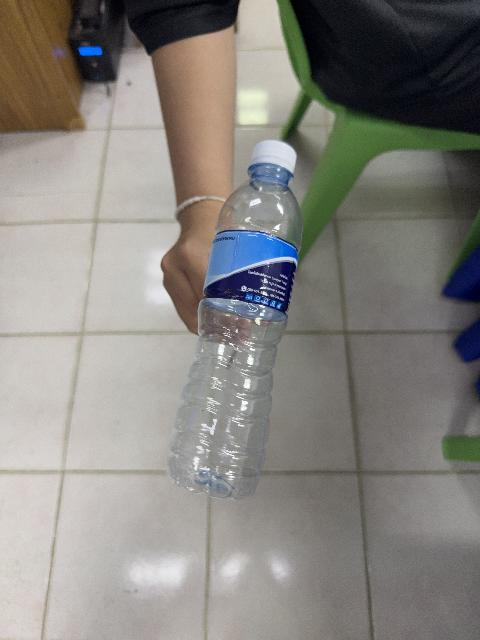bottle: (168, 141, 302, 498)
